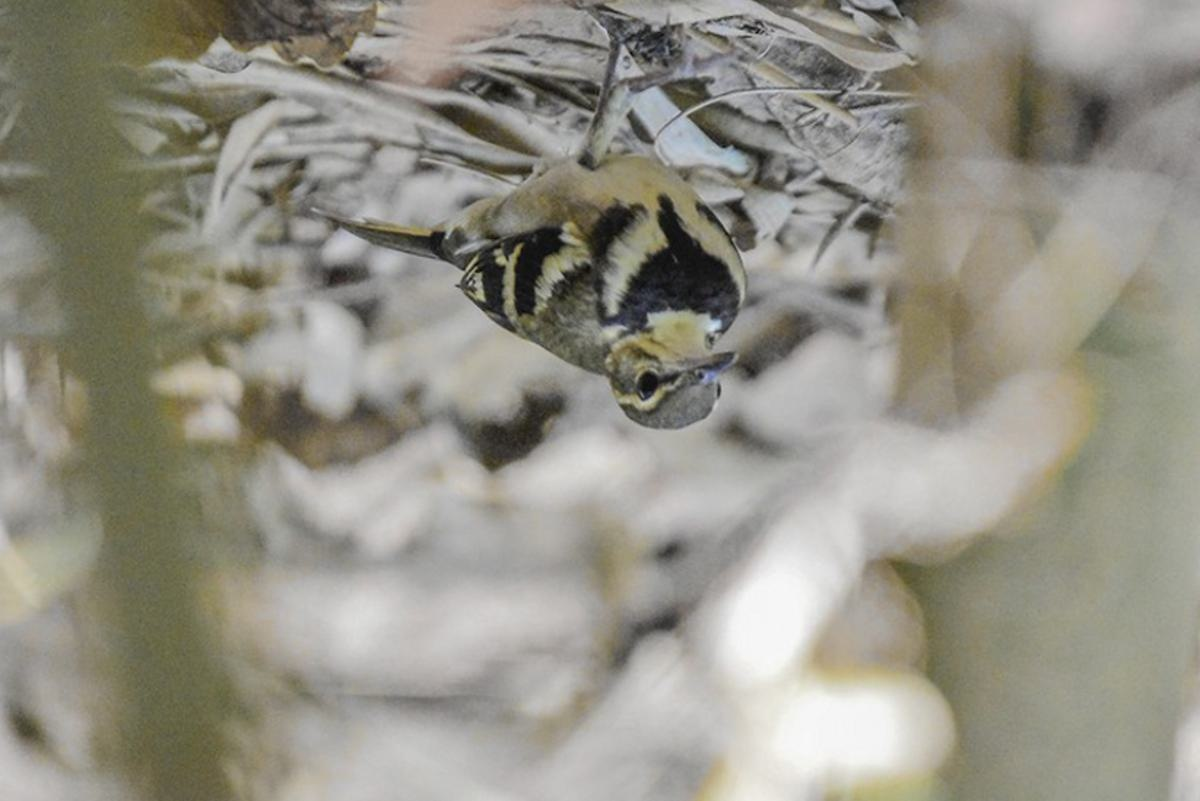wagtail: (424, 145, 766, 455)
